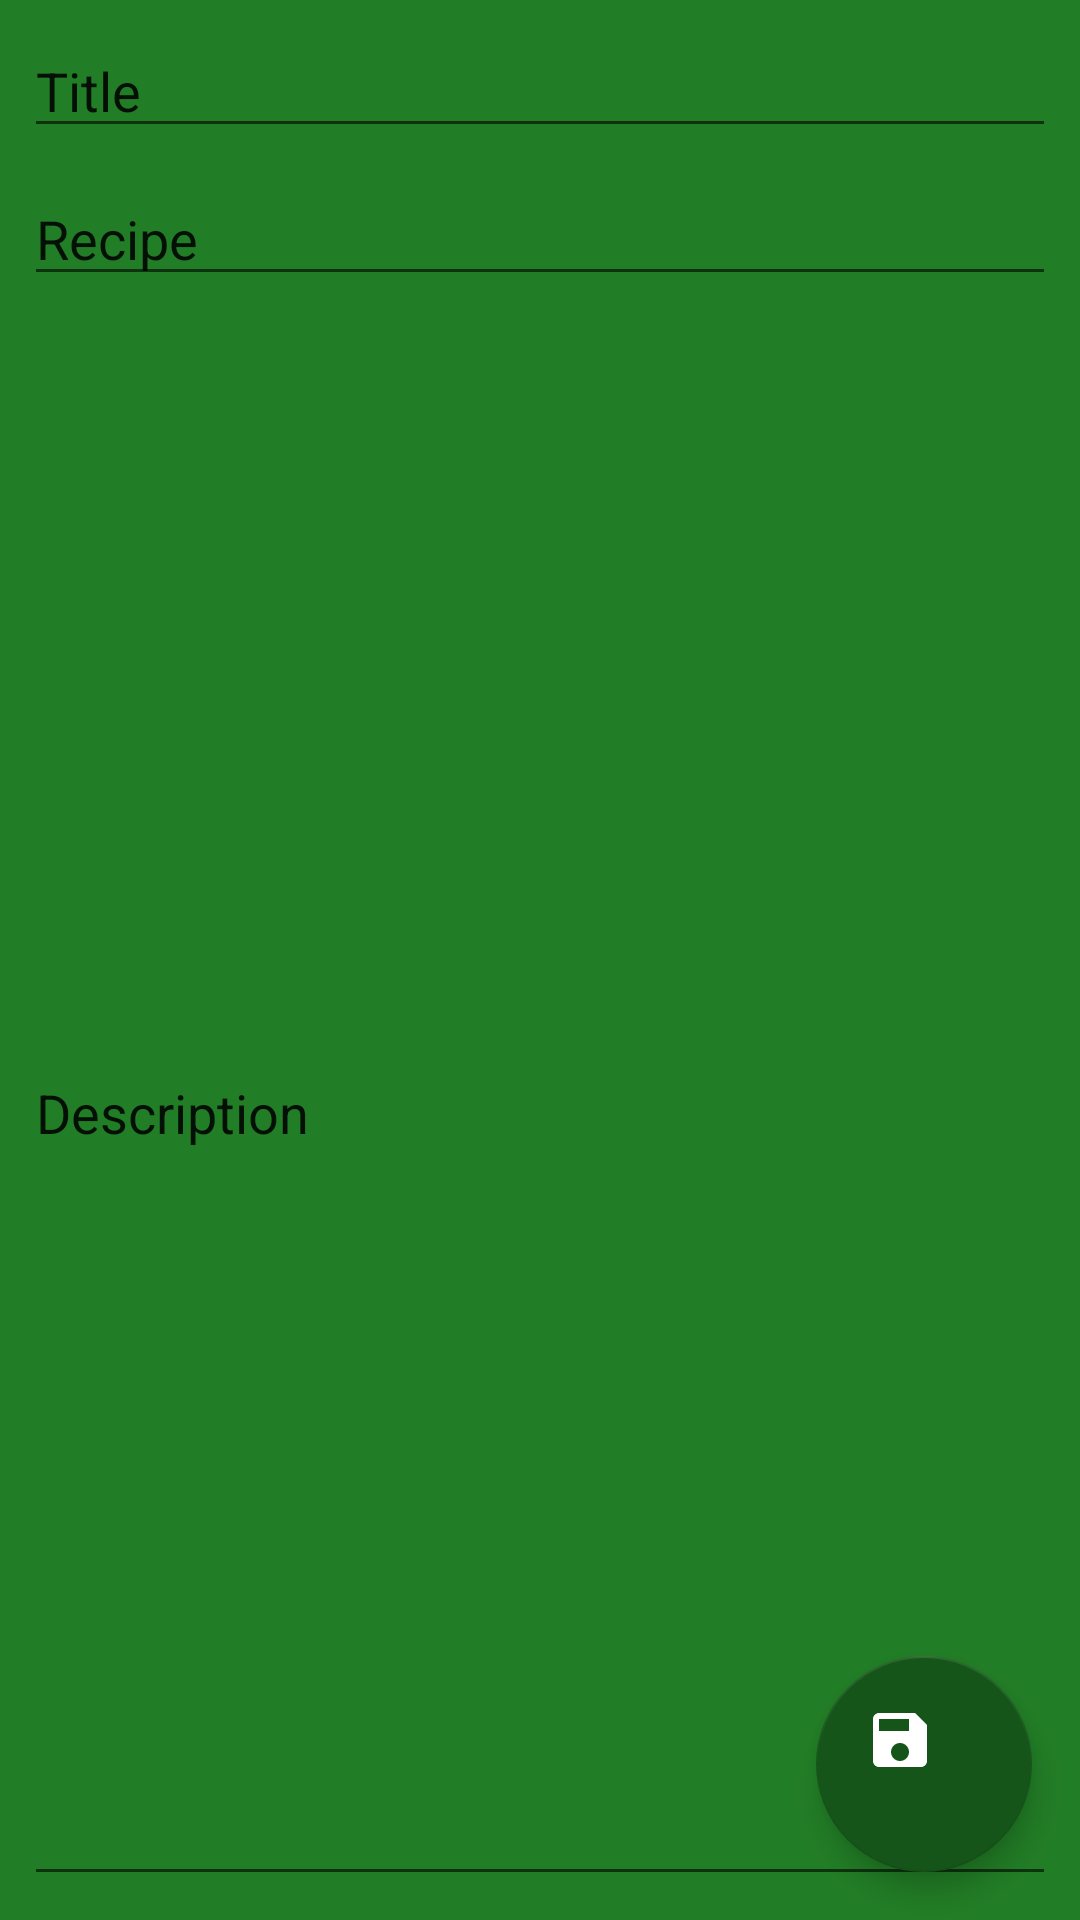

Locate icon controls on the screen. Image size 1080 x 1920, boxes as (x1, y1, x2, y2).
save: (816, 1656, 1032, 1872)
